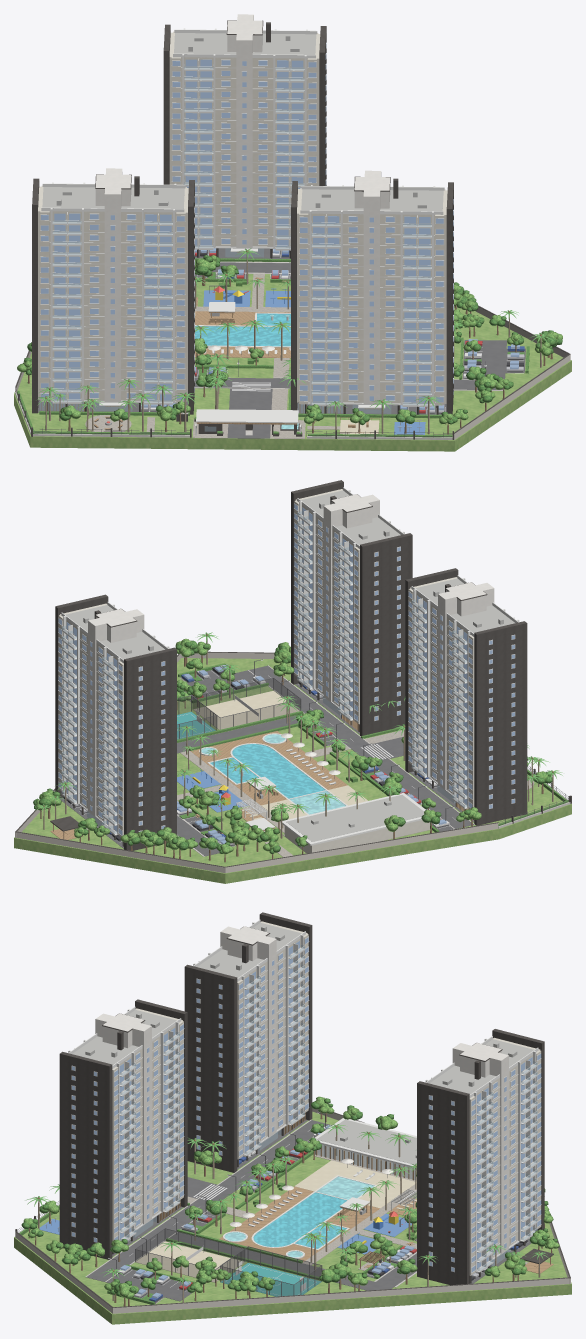
The model's file is ayra.glb.
3 views of the same model, one above another, from view 1: azimuth 30°, elevation 25°; view 2: azimuth 150°, elevation 25°; view 3: azimuth 270°, elevation 25° (orthographic). The views are drawn at different scales.
Parts seen in each view (by area): view 1: ayra, base; view 2: ayra, base; view 3: ayra, base.
Part boxes in pixels (x1,y1,x2,y2): ayra: [15, 14, 570, 439]; base: [14, 274, 571, 451]; ayra: [15, 480, 571, 873]; base: [14, 658, 571, 883]; ayra: [15, 912, 570, 1313]; base: [14, 1111, 571, 1324].
Bounding box in the file's own units: 145 × 65.8 × 155.
41 materials, 17 textured.
